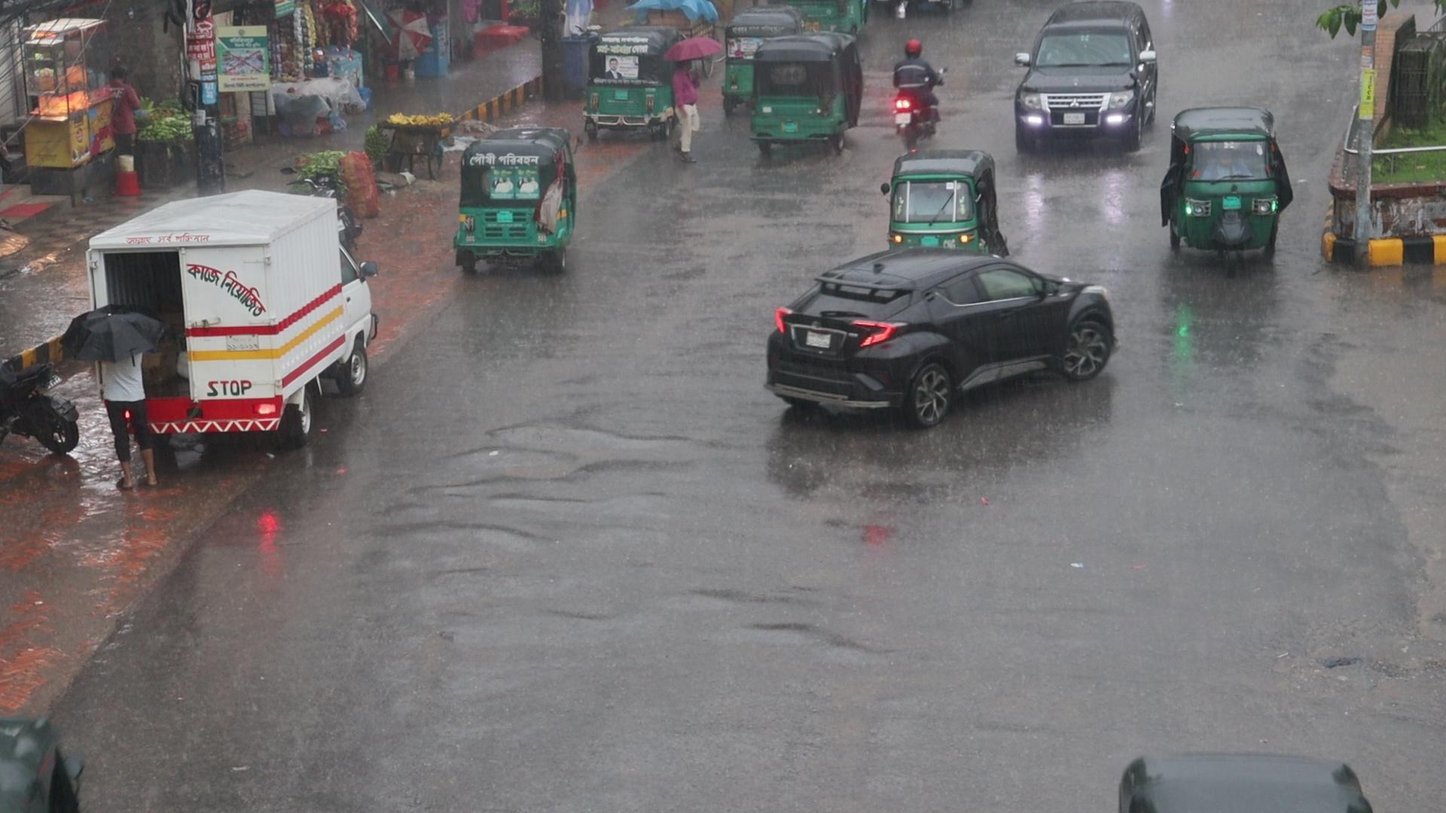Bike: (881, 32, 955, 156)
Car: (759, 240, 1123, 433), (1013, 3, 1160, 161)
